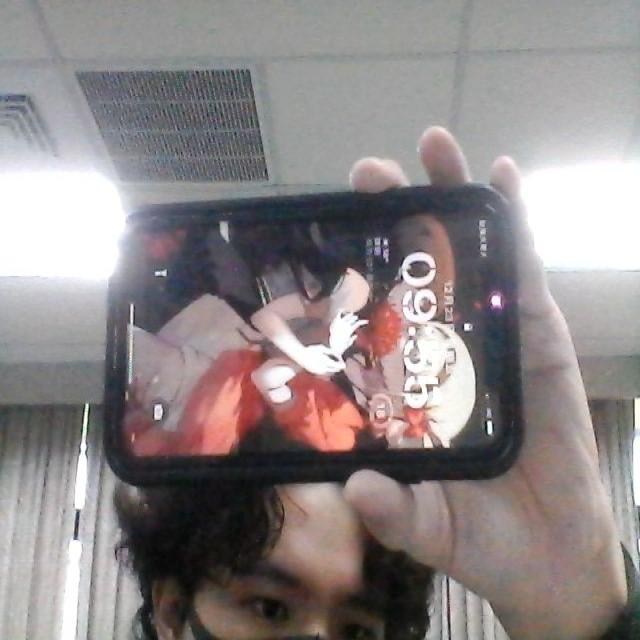phone: (106, 172, 526, 510)
